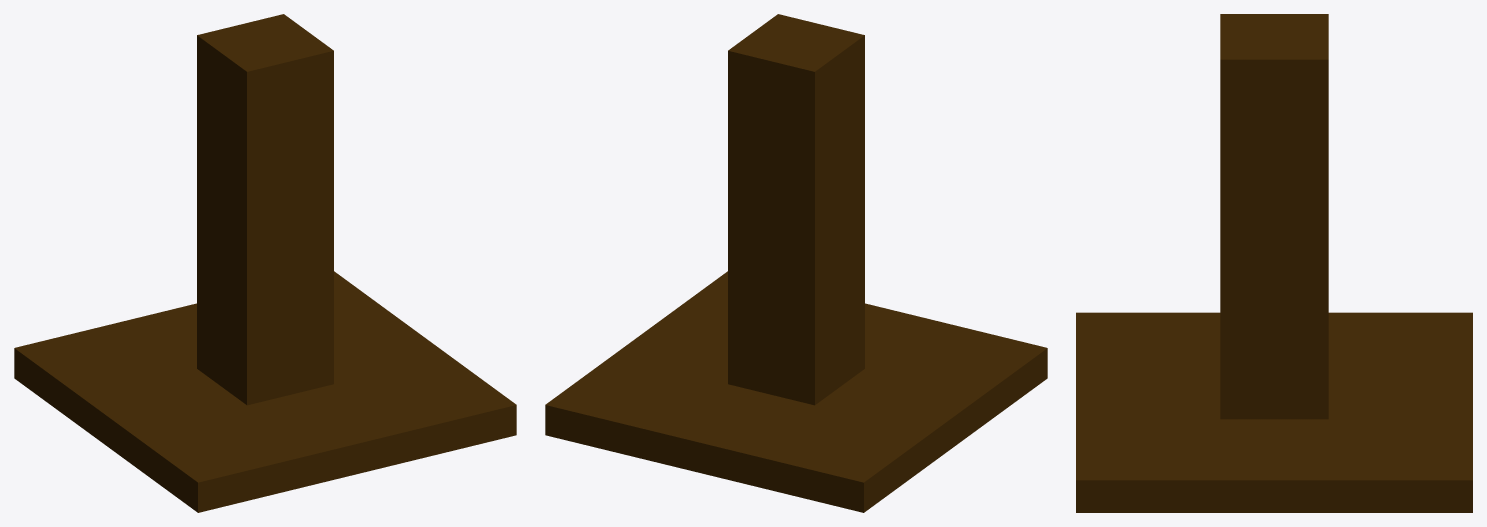
Rendered from SmalLamp-1.obj.
3 renders of one model, left to right at view 1: azimuth 30°, elevation 25°; view 2: azimuth 150°, elevation 25°; view 3: azimuth 270°, elevation 25°, orthographic. The views are drawn at different scales.
Bounding box in the file's own units: 1.1 × 1.2 × 1.1.
1 material, 1 textured.
